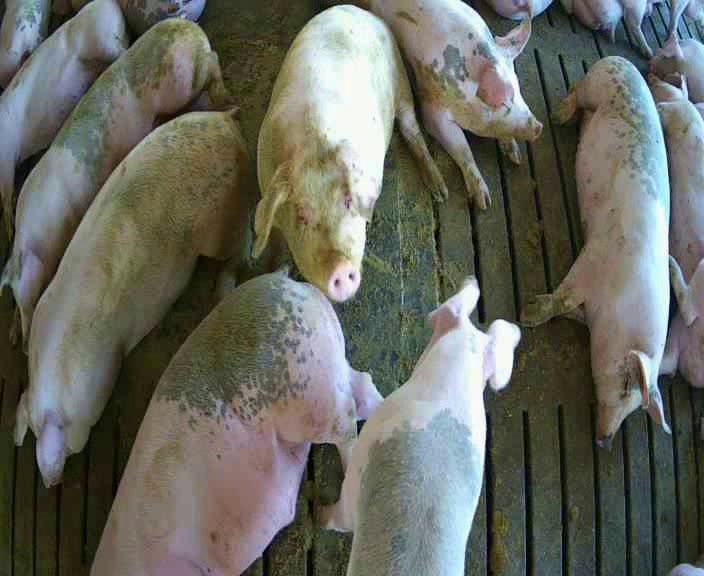pig: (93, 267, 383, 574), (0, 15, 234, 352), (320, 278, 520, 574), (522, 56, 669, 446), (254, 5, 446, 301), (371, 2, 541, 208), (0, 2, 126, 244), (649, 74, 703, 386)
